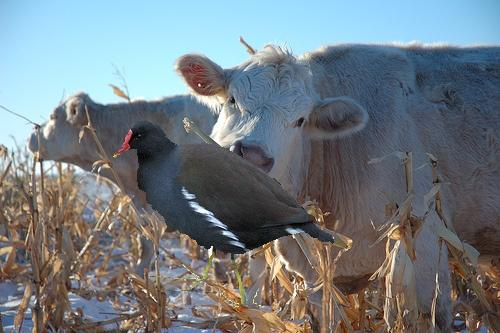tampered: (114, 122, 334, 307)
